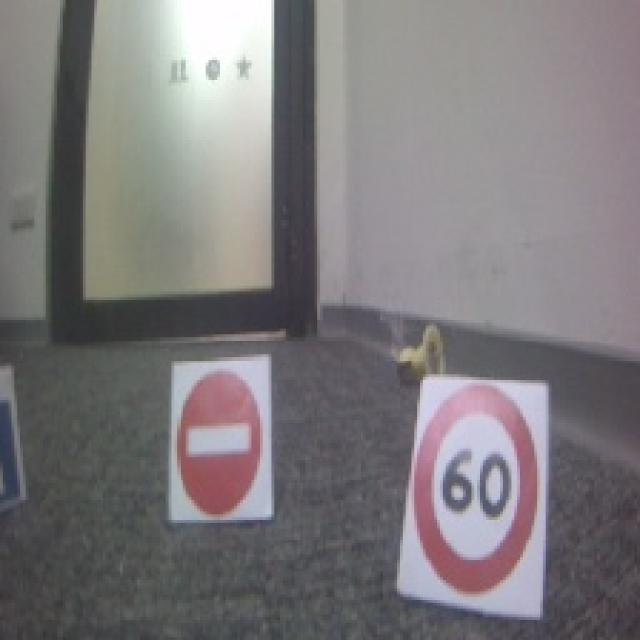DoNotEnterSign: (175, 366, 264, 519)
